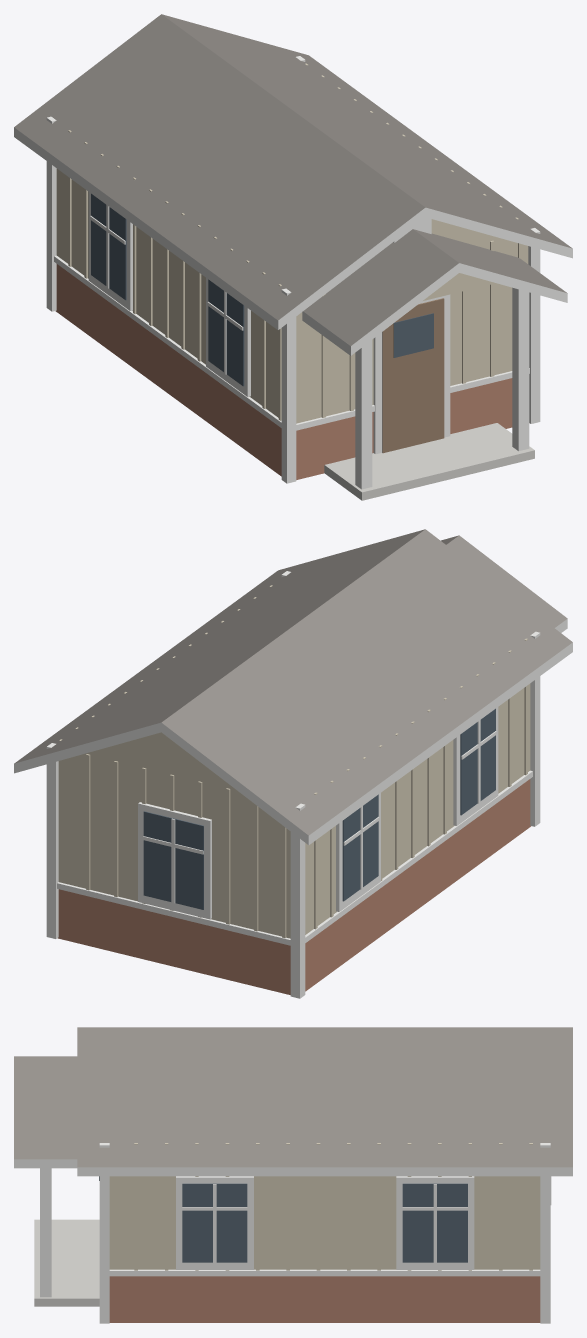
The model's file is pocket-craftsman.glb.
The picture shows the model from 3 angles, top to bottom: view 1: azimuth 30°, elevation 25°; view 2: azimuth 150°, elevation 25°; view 3: azimuth 270°, elevation 25°; orthographic projection. The views are drawn at different scales.
Visible parts, largest first — view 1: The Pocket (craftsman); view 2: The Pocket (craftsman); view 3: The Pocket (craftsman).
Boxes of the visible parts, box(x1,y1,x2,y2) form: The Pocket (craftsman): box(14, 14, 572, 500); The Pocket (craftsman): box(14, 529, 572, 998); The Pocket (craftsman): box(14, 1027, 572, 1323).
Size of the model in its own units: 4.42 by 3.66 by 7.73.
